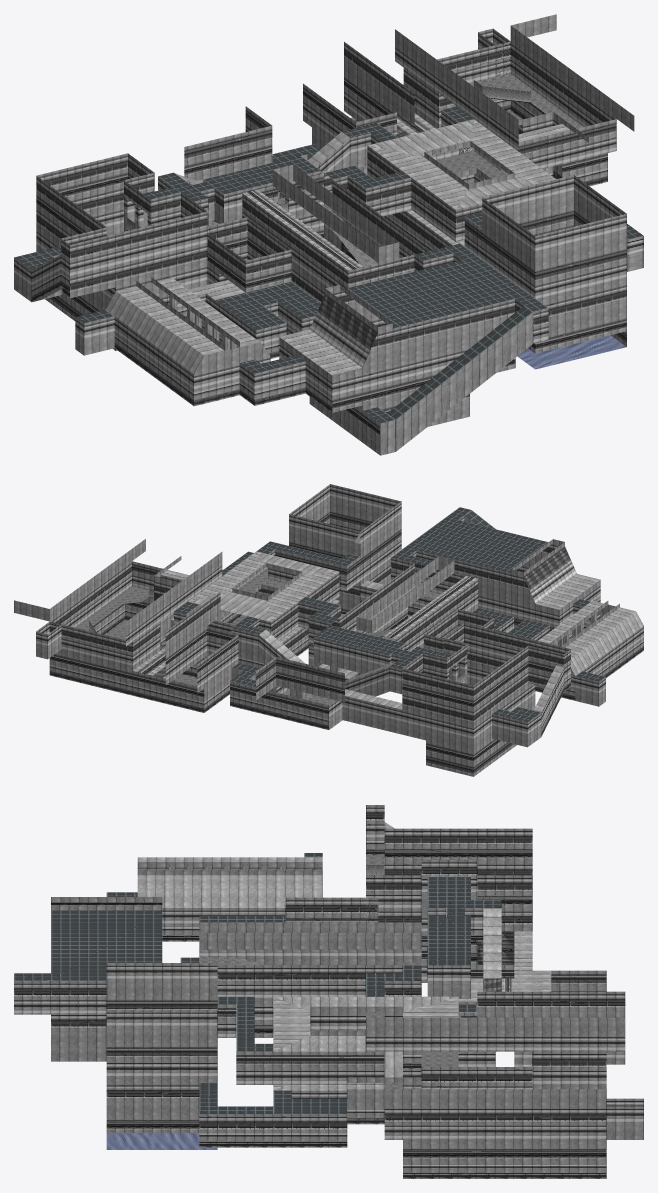
Rendered from complex.glb.
3 views of the same model, one above another, from view 1: azimuth 30°, elevation 25°; view 2: azimuth 150°, elevation 25°; view 3: azimuth 270°, elevation 25° (orthographic). The views are drawn at different scales.
Parts seen in each view (by area): view 1: primary_Room2A, primary_Room1D, primary_Room22, primary_Room01, primary_Room02, primary_Room29, primary_Room21, primary_Room0F, primary_Room26, primary_Room1F, primary_Room09, primary_Room11 (+18 smaller); view 2: primary_Room22, primary_Room02, primary_Room2A, primary_Room1D, primary_Room1F, primary_Room01, primary_Room21, primary_Room29, primary_Room09, primary_Room14, primary_Room12, primary_Room0F (+15 smaller); view 3: primary_Room22, primary_Room1D, primary_Room01, primary_Room2A, primary_Room21, primary_Room29, primary_Room02, primary_Room1F, primary_Room18, primary_Room14, primary_Room16, primary_Room12 (+13 smaller).
Part boxes in pixels (<box>): primary_Room2A: <box>279,256,548,412</box>; primary_Room1D: <box>474,175,626,369</box>; primary_Room22: <box>395,25,634,186</box>; primary_Room01: <box>242,165,429,330</box>; primary_Room02: <box>36,161,176,350</box>; primary_Room29: <box>106,277,270,406</box>; primary_Room21: <box>367,119,555,241</box>; primary_Room0F: <box>182,217,320,338</box>; primary_Room26: <box>363,305,533,455</box>; primary_Room1F: <box>303,42,435,174</box>; primary_Room09: <box>184,106,272,182</box>; primary_Room11: <box>150,192,207,289</box>; primary_Room22: <box>49,539,222,695</box>; primary_Room02: <box>426,629,570,776</box>; primary_Room2A: <box>405,507,600,631</box>; primary_Room1D: <box>289,484,401,614</box>; primary_Room1F: <box>133,591,259,712</box>; primary_Room01: <box>339,556,512,675</box>; primary_Room21: <box>188,551,339,640</box>; primary_Room29: <box>535,600,643,700</box>; primary_Room09: <box>256,657,344,729</box>; primary_Room14: <box>314,625,405,673</box>; primary_Room12: <box>402,653,446,740</box>; primary_Room0F: <box>424,609,549,652</box>; primary_Room22: <box>347,1017,625,1178</box>; primary_Room1D: <box>106,963,235,1149</box>; primary_Room01: <box>199,922,421,1037</box>; primary_Room2A: <box>14,897,162,1045</box>; primary_Room21: <box>255,996,461,1089</box>; primary_Room29: <box>137,857,322,941</box>; primary_Room02: <box>366,805,532,982</box>; primary_Room1F: <box>477,991,625,1066</box>; primary_Room18: <box>273,1090,347,1147</box>; primary_Room14: <box>421,915,470,998</box>; primary_Room16: <box>199,1082,273,1147</box>; primary_Room12: <box>477,875,532,964</box>.
Size of the model in its own units: 4583 by 985 by 3864.
15 materials, 14 textured.
